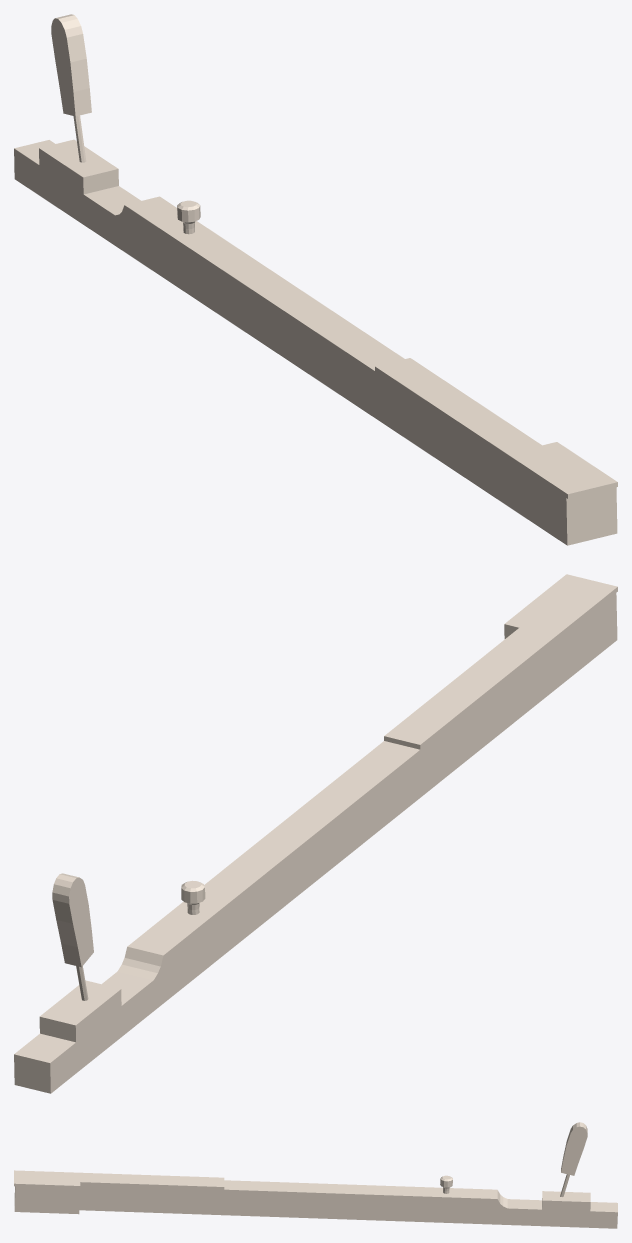
Rendered from key_base_white01.obj.
3 renders of one model, top to bottom at view 1: azimuth 30°, elevation 25°; view 2: azimuth 150°, elevation 25°; view 3: azimuth 270°, elevation 25°, orthographic. The views are drawn at different scales.
Parts seen in each view (by area): view 1: white_keys.013_Cube.060; view 2: white_keys.013_Cube.060; view 3: white_keys.013_Cube.060.
Part boxes in pixels (bbox=[...]): white_keys.013_Cube.060: bbox=[14, 14, 617, 545]; white_keys.013_Cube.060: bbox=[14, 574, 617, 1093]; white_keys.013_Cube.060: bbox=[14, 1122, 617, 1228].
Size of the model in its own units: 0.0308 by 0.1077 by 0.5912.
1 material, 1 textured.
